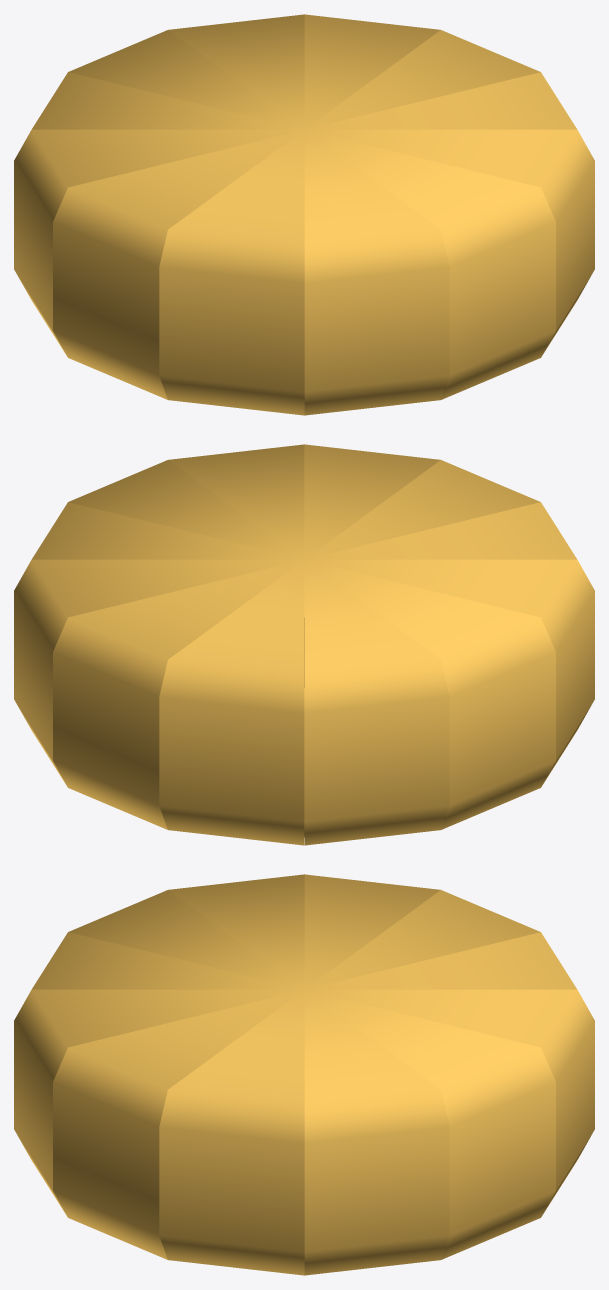
File: cheese.obj
3 renders of one model, top to bottom at view 1: azimuth 30°, elevation 25°; view 2: azimuth 150°, elevation 25°; view 3: azimuth 270°, elevation 25°, orthographic.
Parts seen in each view (by area): view 1: wedge; view 2: wedge; view 3: wedge.
Boxes of the visible parts, bbox=[...] form: wedge: bbox=[14, 14, 594, 415]; wedge: bbox=[14, 444, 594, 845]; wedge: bbox=[14, 874, 594, 1275].
Bounding box in the file's own units: 0.68 × 0.22 × 0.68.
